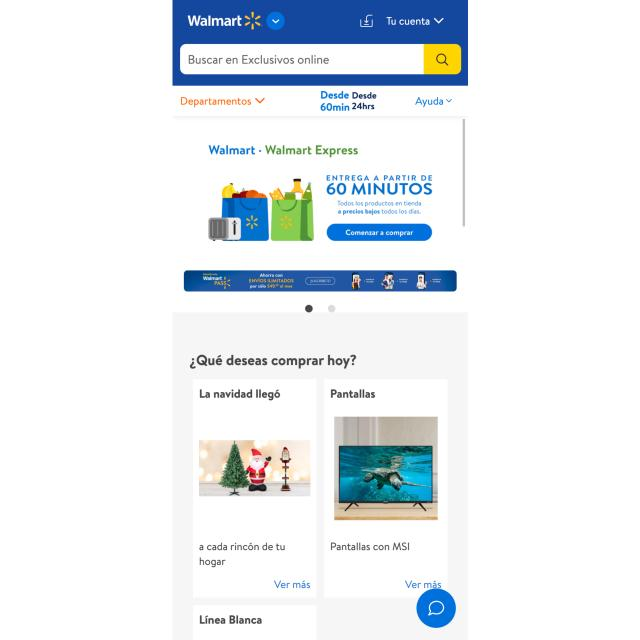CheckBox: (424, 43, 461, 74), (271, 576, 312, 592)
CheckedTextView: (180, 44, 460, 75)
Spinner: (193, 379, 315, 599), (324, 379, 446, 596)
alert: (186, 10, 285, 32), (177, 90, 267, 110), (386, 13, 446, 29), (413, 94, 457, 109)
bag: (171, 0, 468, 114)
breadcrumbs: (188, 352, 360, 373)
card: (172, 114, 463, 296)
date picker: (184, 9, 263, 34)
dropdown: (296, 303, 341, 316)
